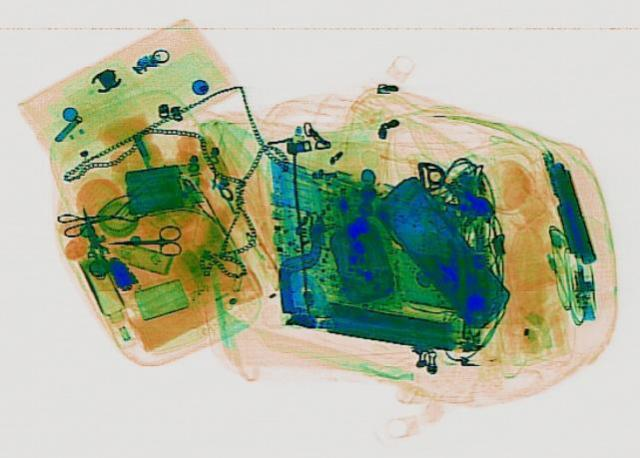Scissors: (107, 223, 181, 255), (53, 202, 125, 234)
